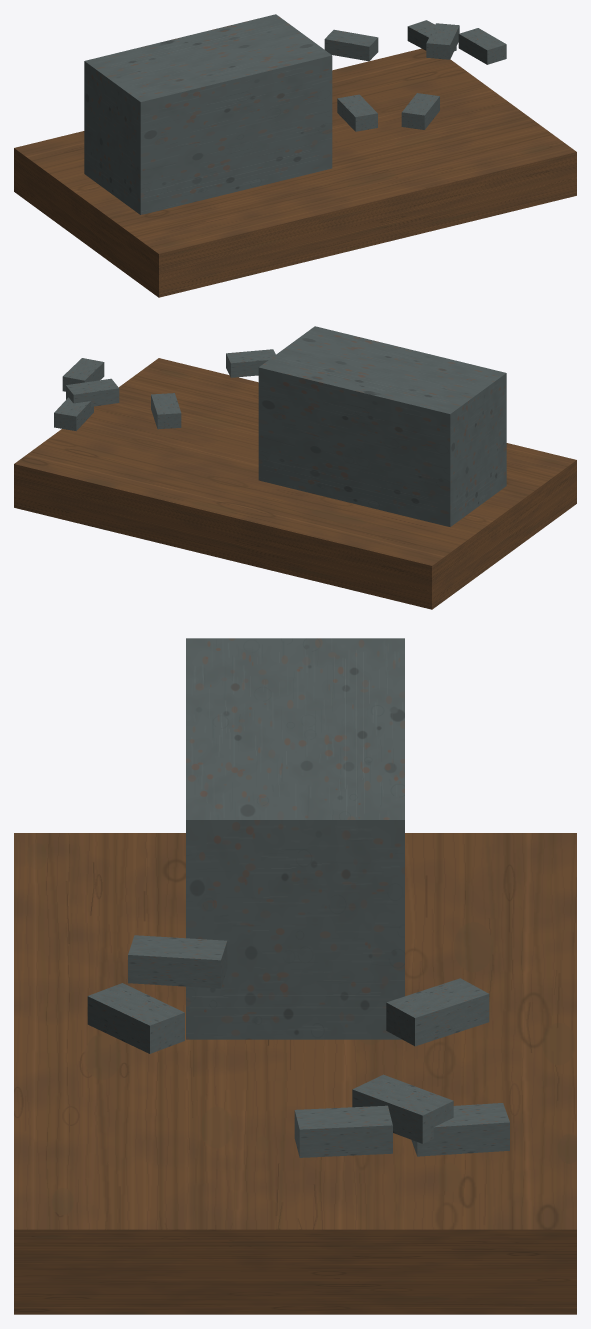
Rendered from cs-016_radio_repair_station__mid_repair.obj.
3 renders of one model, top to bottom at view 1: azimuth 30°, elevation 25°; view 2: azimuth 150°, elevation 25°; view 3: azimuth 270°, elevation 25°, orthographic. The views are drawn at different scales.
Visible parts, largest first — view 1: cs-016_radio_repair_station__mid_repair; view 2: cs-016_radio_repair_station__mid_repair; view 3: cs-016_radio_repair_station__mid_repair.
Part boxes in pixels (x1,y1,x2,y2): cs-016_radio_repair_station__mid_repair: [14, 14, 576, 297]; cs-016_radio_repair_station__mid_repair: [14, 326, 576, 609]; cs-016_radio_repair_station__mid_repair: [14, 638, 576, 1314].
Size of the model in its own units: 1.21 by 0.43 by 0.72.
2 materials, 2 textured.
